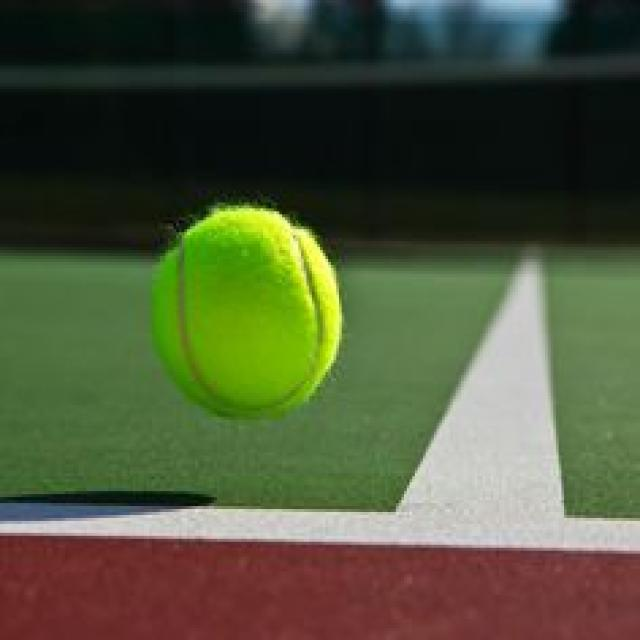tennis: (150, 205, 343, 416)
